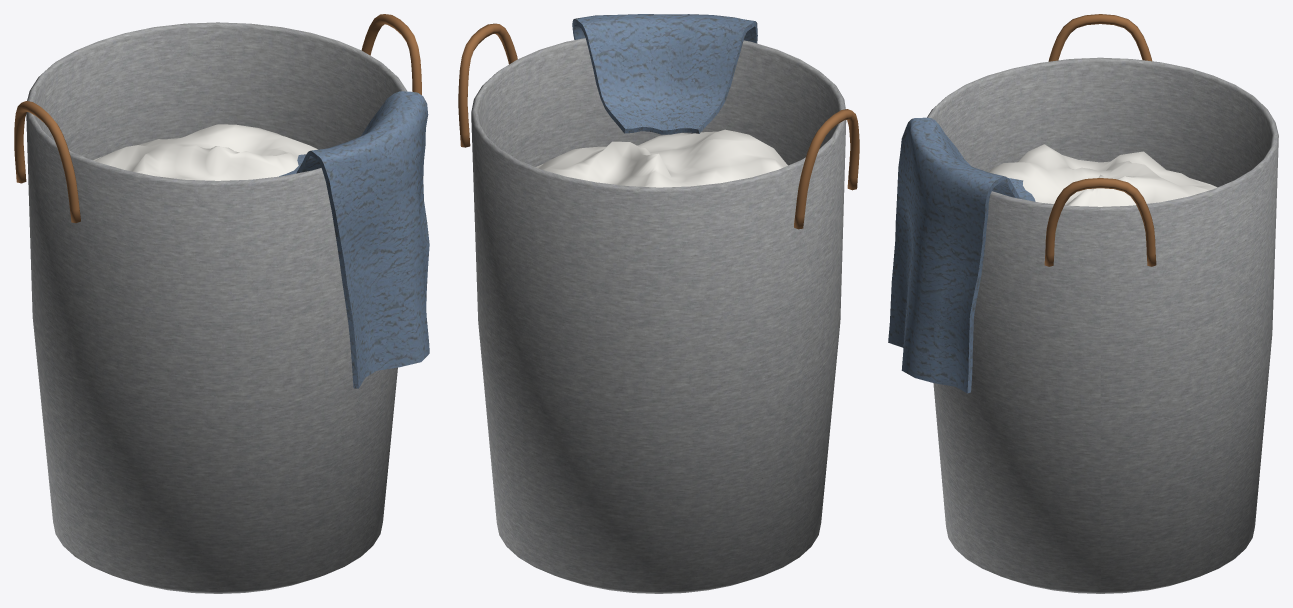
The model's file is laundry_basket.glb.
3 views of the same model, side by side, from view 1: azimuth 30°, elevation 25°; view 2: azimuth 150°, elevation 25°; view 3: azimuth 270°, elevation 25° (orthographic). The views are drawn at different scales.
Visible parts, largest first — view 1: laundry_basket_soft; view 2: laundry_basket_soft; view 3: laundry_basket_soft.
Part boxes in pixels (x1,y1,x2,y2): laundry_basket_soft: [14, 14, 429, 593]; laundry_basket_soft: [458, 14, 859, 593]; laundry_basket_soft: [888, 14, 1278, 593].
Size of the model in its own units: 0.4654 by 0.5662 by 0.4566.
Materials: 4 (2 with a texture image).
